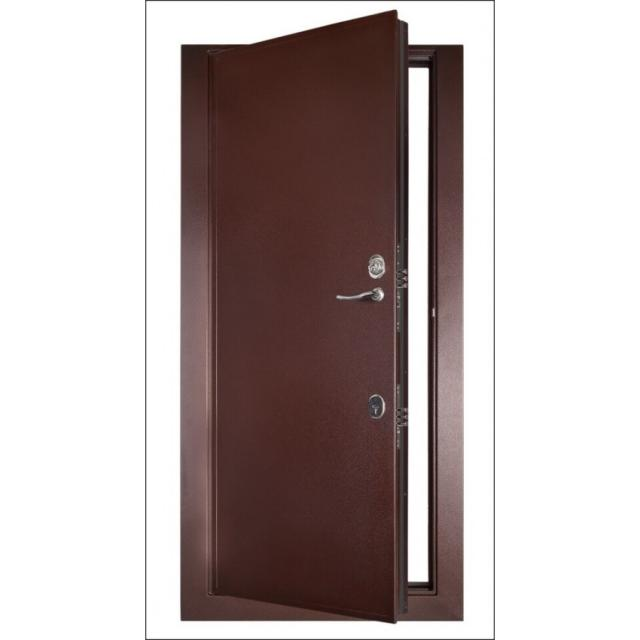open: (187, 31, 463, 611)
